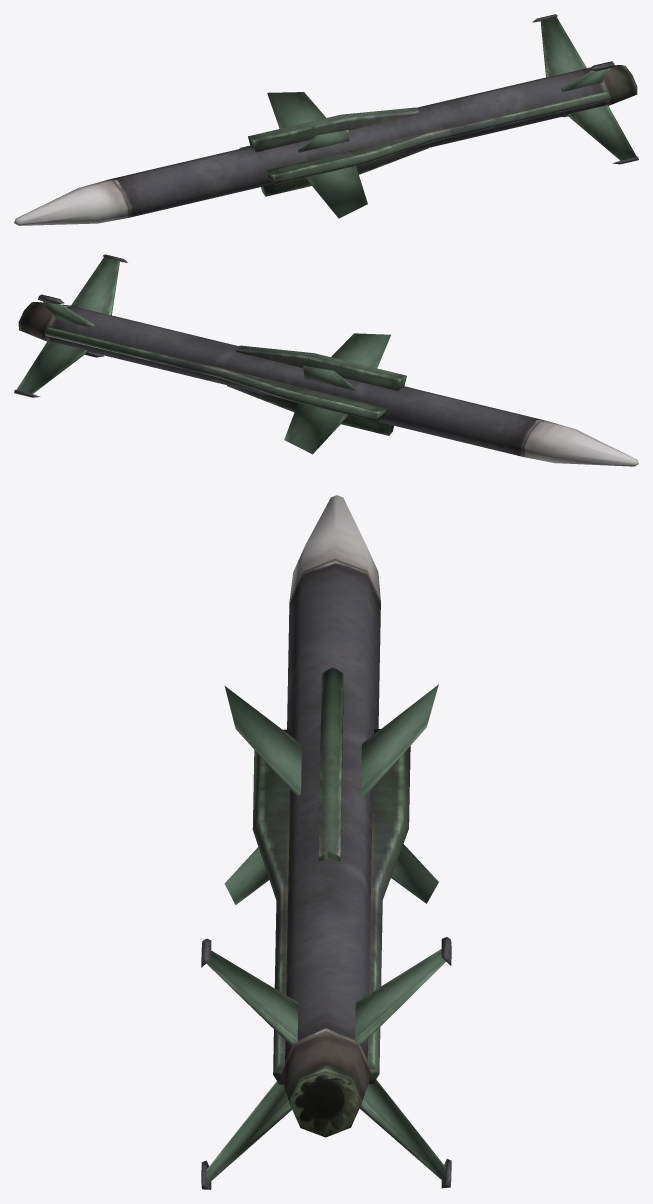
Rendered from SAMmissile.obj.
3 views of the same model, one above another, from view 1: azimuth 30°, elevation 25°; view 2: azimuth 150°, elevation 25°; view 3: azimuth 270°, elevation 25° (orthographic). The views are drawn at different scales.
Parts seen in each view (by area): view 1: Mesh.004_DrawCall_0192; view 2: Mesh.004_DrawCall_0192; view 3: Mesh.004_DrawCall_0192.
Boxes of the visible parts, x1,y1,x2,y2 form: Mesh.004_DrawCall_0192: [14, 14, 638, 225]; Mesh.004_DrawCall_0192: [14, 254, 638, 466]; Mesh.004_DrawCall_0192: [201, 495, 451, 1189].
Bounding box in the file's own units: 8.52 × 1.4 × 1.5.
Materials: 1 (1 with a texture image).
